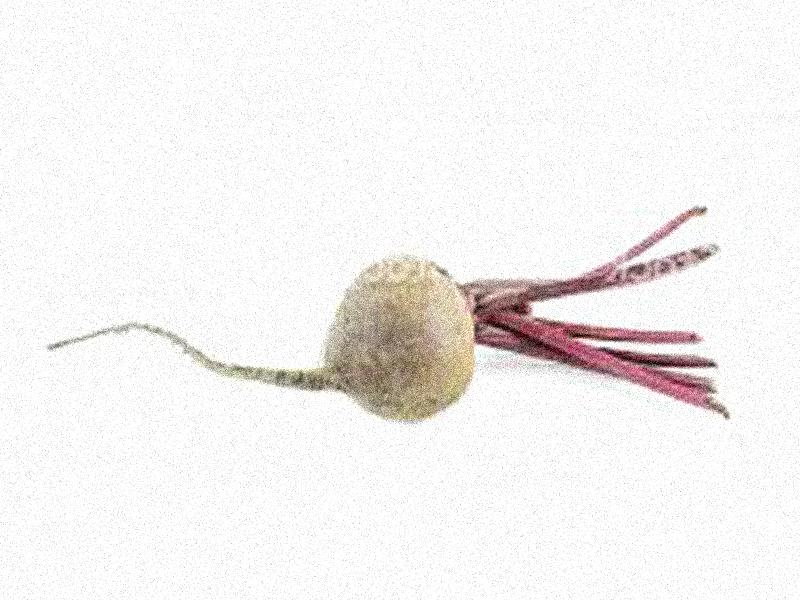Beet: (43, 210, 726, 420)
